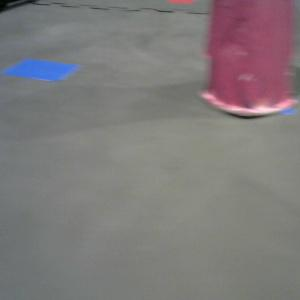Right: (199, 1, 297, 116)
